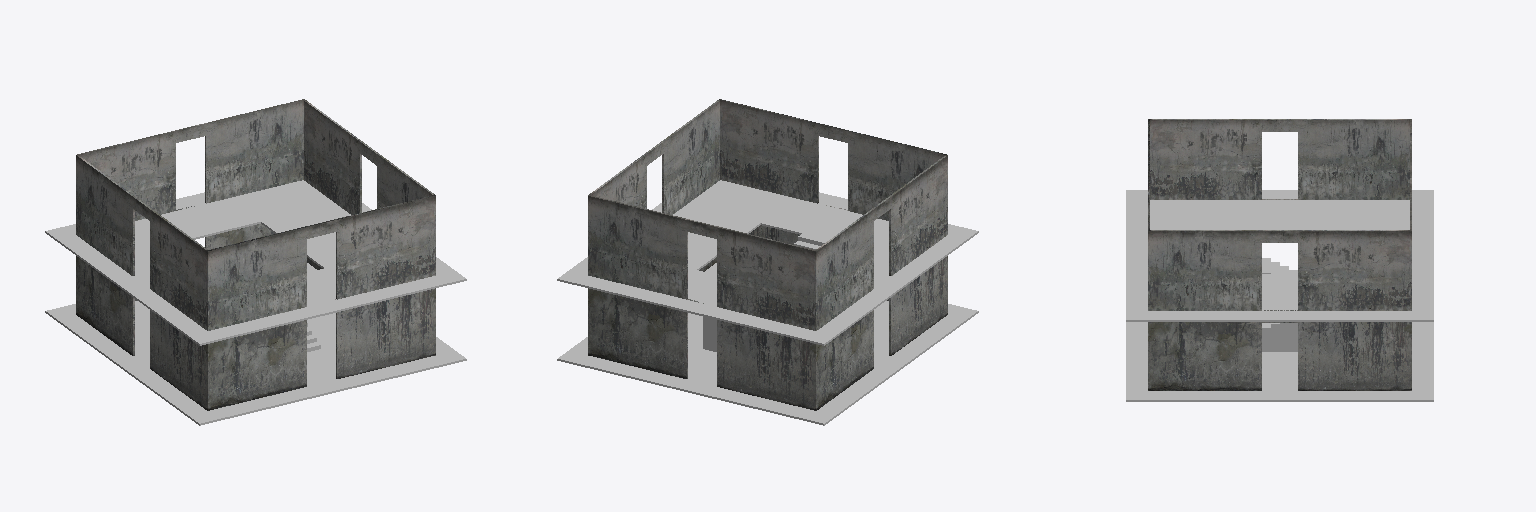
The picture shows the model from 3 angles: view 1: azimuth 30°, elevation 25°; view 2: azimuth 150°, elevation 25°; view 3: azimuth 270°, elevation 25°; orthographic projection.
Parts seen in each view (by area): view 1: Boole.1; view 2: Boole.1; view 3: Boole.1.
Part boxes in pixels (left/top/right/bottom): Boole.1: left=45, top=99, right=466, bottom=425; Boole.1: left=557, top=99, right=978, bottom=425; Boole.1: left=1126, top=119, right=1433, bottom=401.
Size of the model in its own units: 7 by 4.05 by 7.
Materials: 2 (1 with a texture image).